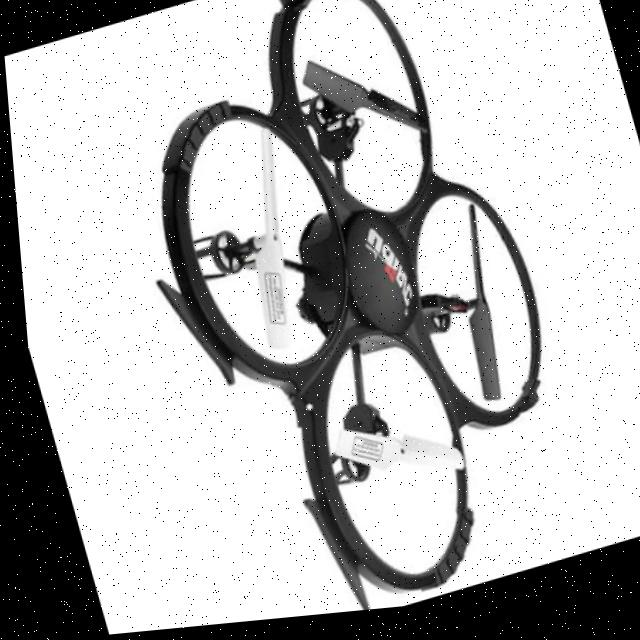drones: (71, 0, 629, 635)
